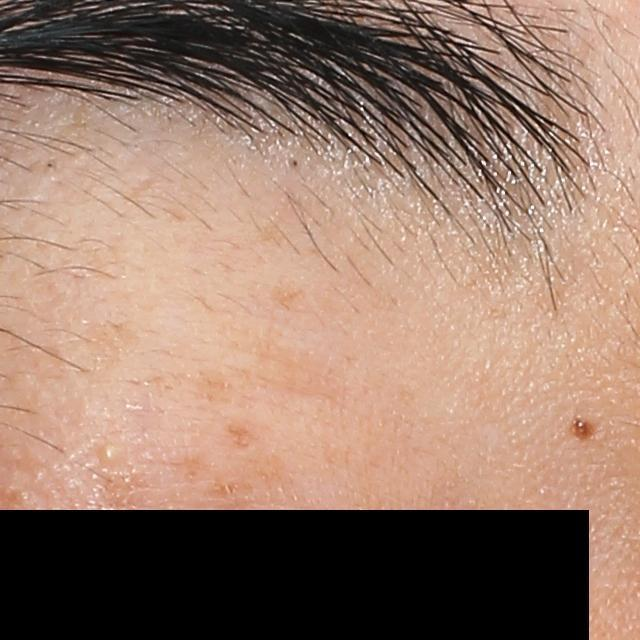comedo: (92, 440, 127, 472)
melasma: (160, 454, 259, 507), (97, 469, 147, 516), (266, 282, 310, 310), (223, 423, 259, 450)
nevus: (571, 412, 597, 443)
